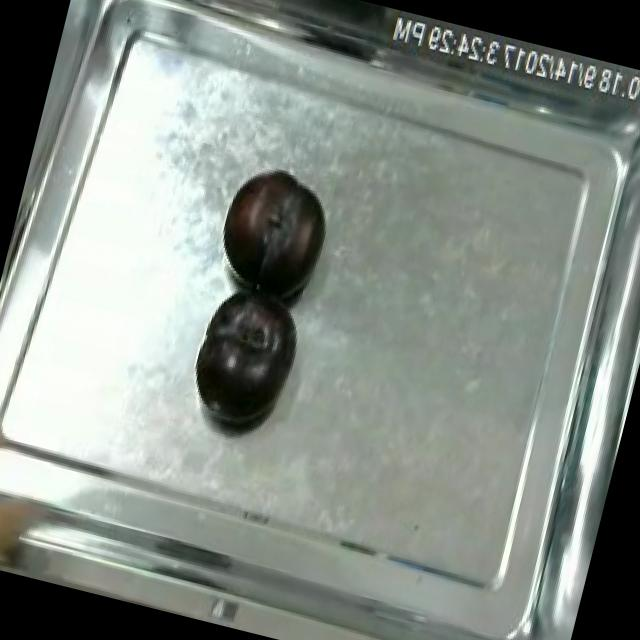Fruit: (178, 278, 314, 443), (204, 154, 344, 313), (0, 459, 70, 581)
